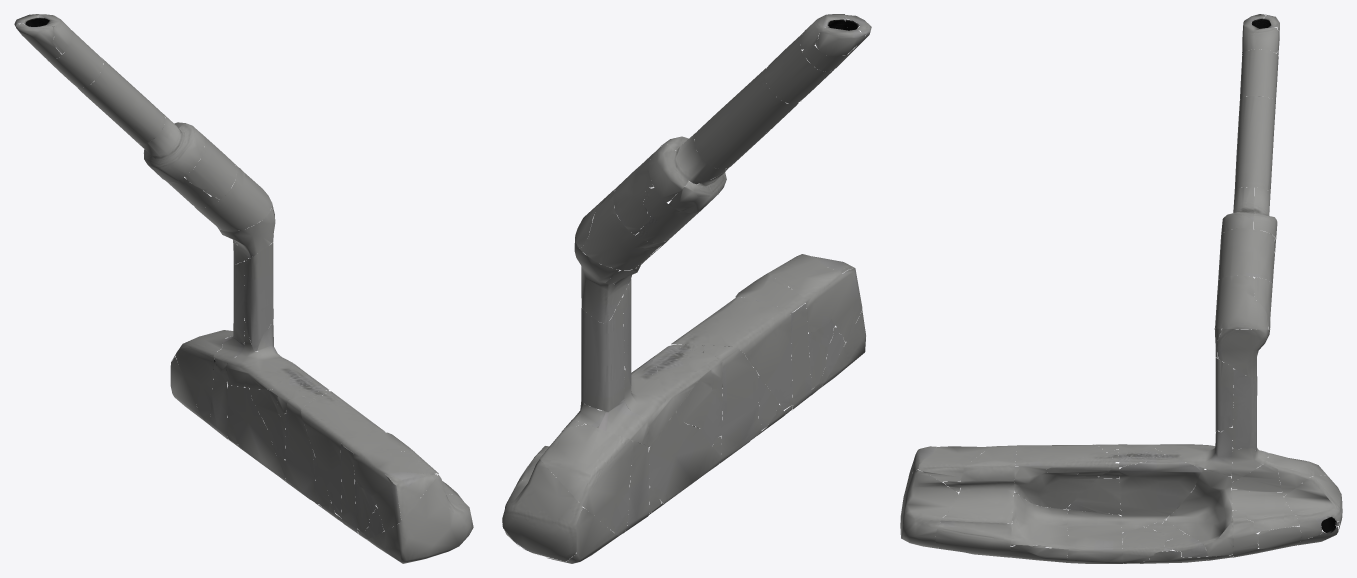
The model's file is putter.glb.
The picture shows the model from 3 angles, left to right: view 1: azimuth 30°, elevation 25°; view 2: azimuth 150°, elevation 25°; view 3: azimuth 270°, elevation 25°; orthographic projection. The views are drawn at different scales.
Parts seen in each view (by area): view 1: tripo_node_8084fbfe-ee4f-4306-9356-407bf1eea67a; view 2: tripo_node_8084fbfe-ee4f-4306-9356-407bf1eea67a; view 3: tripo_node_8084fbfe-ee4f-4306-9356-407bf1eea67a.
Part boxes in pixels (x1=…): tripo_node_8084fbfe-ee4f-4306-9356-407bf1eea67a: x1=14, y1=14, x2=473, y2=563; tripo_node_8084fbfe-ee4f-4306-9356-407bf1eea67a: x1=502, y1=14, x2=871, y2=563; tripo_node_8084fbfe-ee4f-4306-9356-407bf1eea67a: x1=900, y1=14, x2=1342, y2=563.
Bounding box in the file's own units: 0.6726 × 0.9998 × 0.9464.
1 material, 1 textured.
